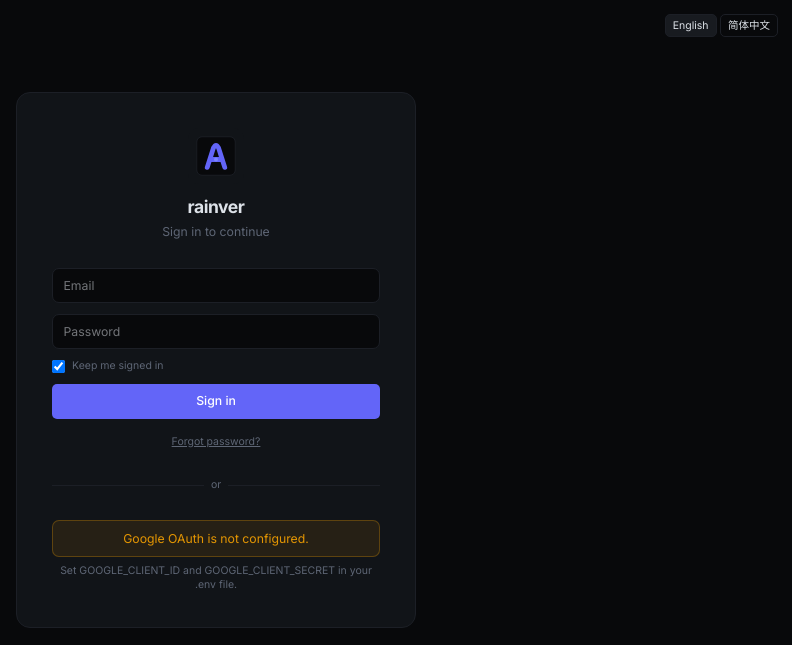
LoginPage language choice › starts in English and switches the public login page to Chinese
Expected: the text "Sign in to continue" is shown, [162, 222, 270, 240]
Click the button "简体中文" at (749,26), box [720, 14, 778, 37]
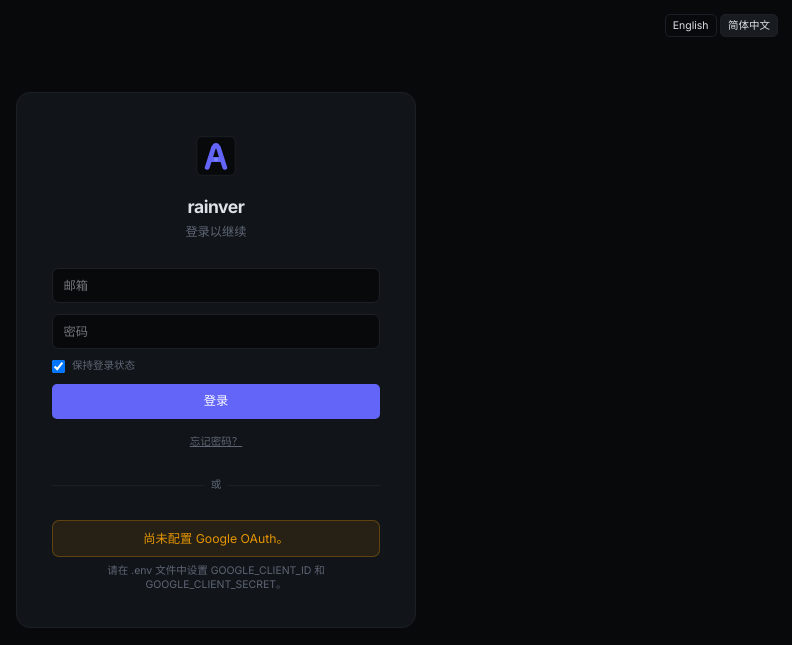
Now the text "登录以继续" is shown, box [185, 222, 247, 240]
Now the field with placeholder "邮箱" is shown, box [52, 268, 380, 303]
